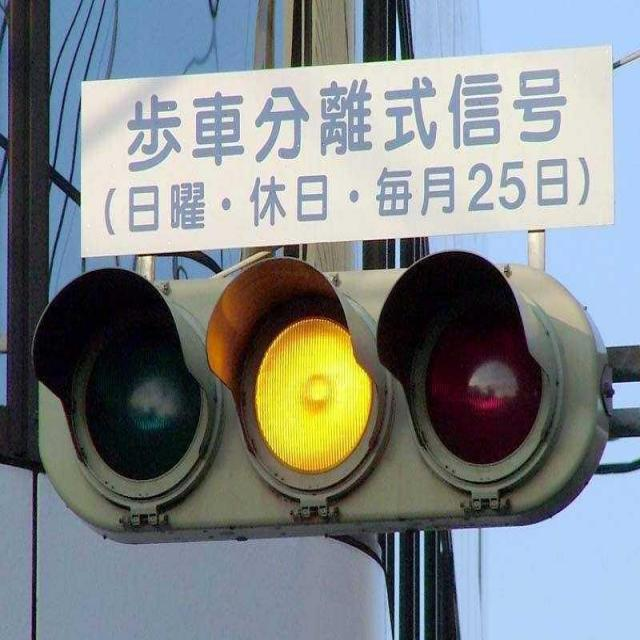Traffic Light -Yellow-: (19, 244, 617, 552)
